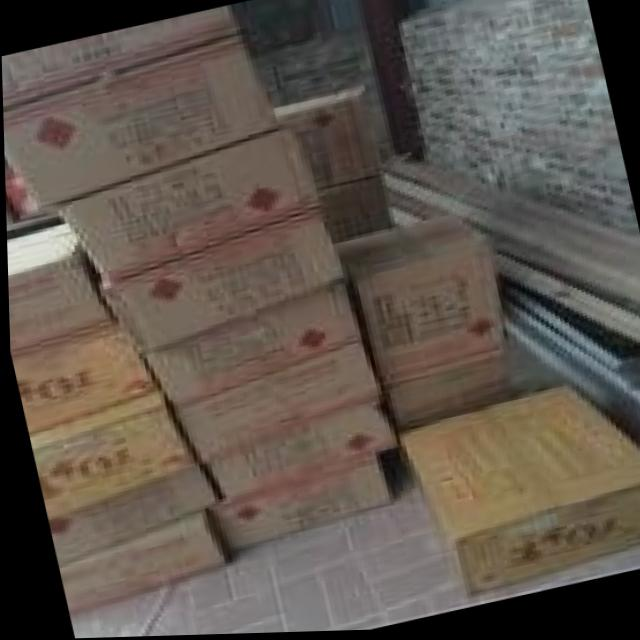box: (396, 388, 640, 599), (3, 37, 277, 212), (56, 127, 318, 283), (98, 211, 342, 354), (331, 214, 506, 388), (140, 283, 359, 410), (169, 341, 376, 463), (1, 7, 237, 113), (27, 395, 196, 517), (204, 400, 395, 502), (202, 455, 387, 556), (56, 513, 222, 617), (45, 466, 213, 566), (10, 324, 156, 435), (6, 224, 113, 355), (274, 90, 379, 189), (386, 361, 508, 434), (318, 179, 390, 243)
